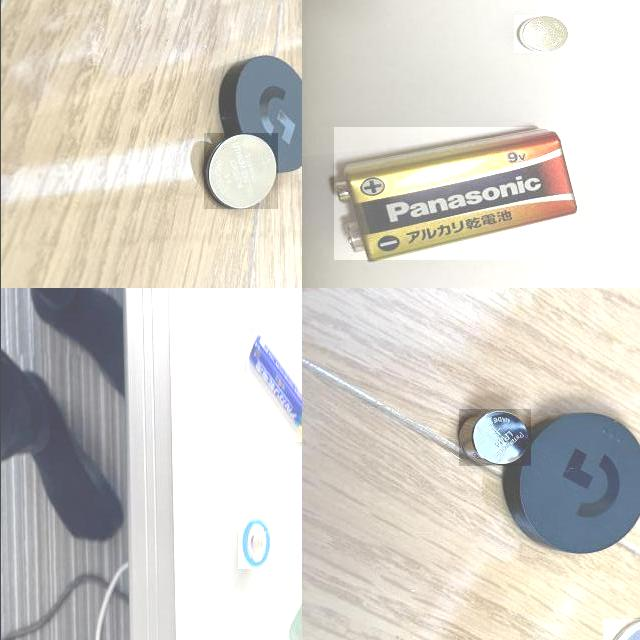9V: (332, 127, 578, 260)
